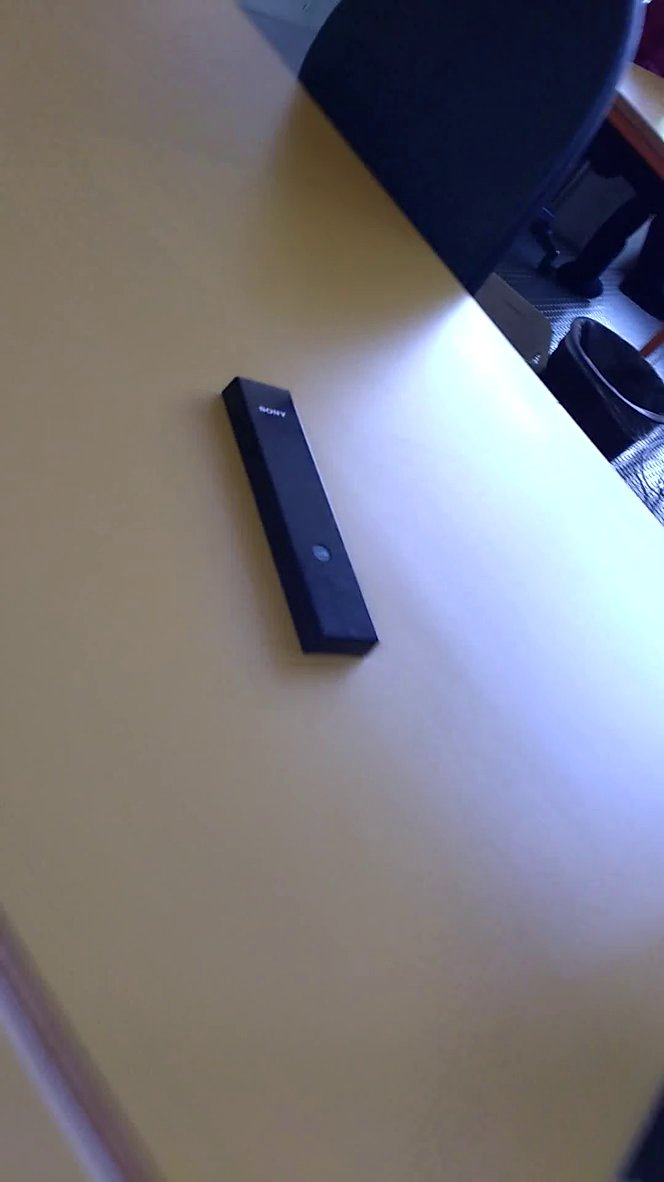bin: (521, 292, 664, 493)
remote: (210, 364, 392, 676)
